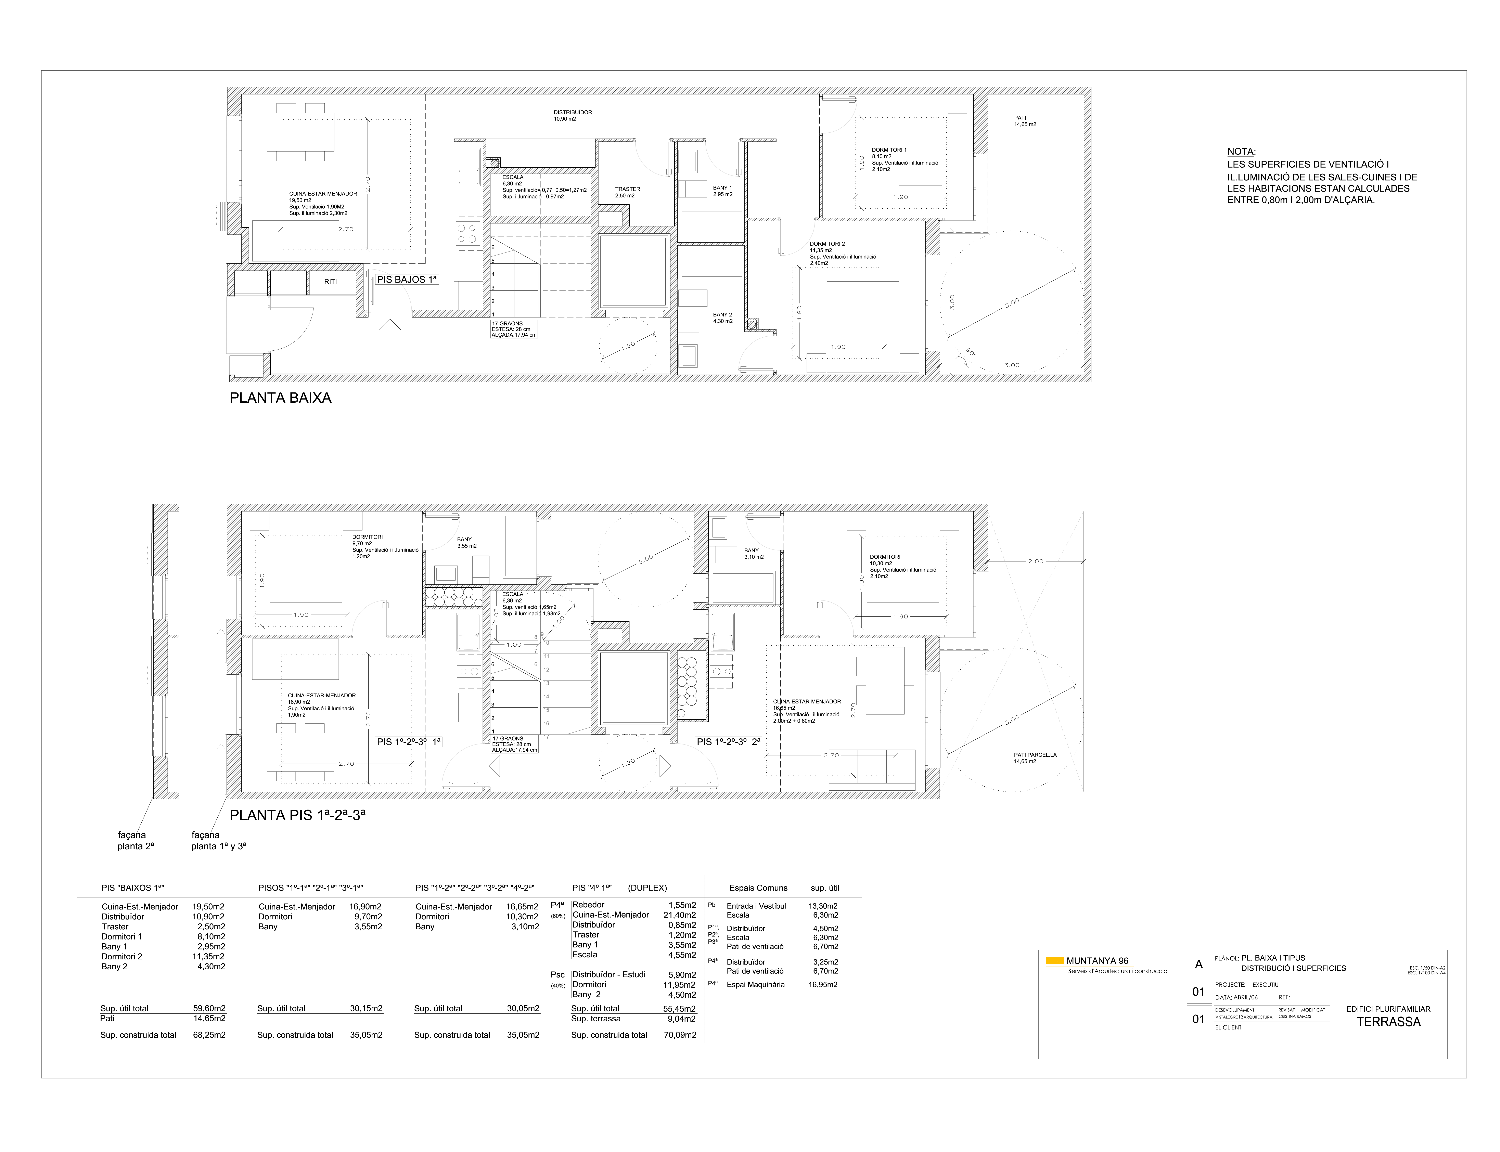door: (442, 741, 487, 791), (350, 597, 391, 639), (422, 512, 461, 553)
